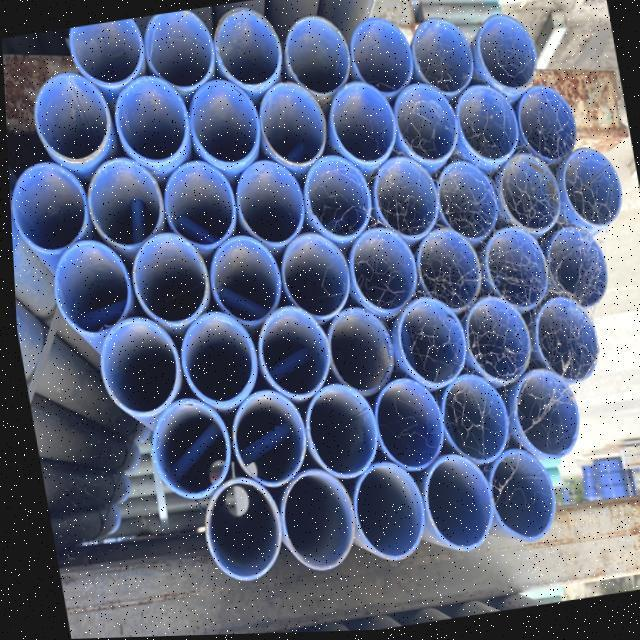pipe: (263, 472, 350, 575), (139, 400, 226, 503), (194, 474, 276, 580), (37, 239, 127, 335), (91, 313, 175, 413), (345, 464, 420, 564), (471, 450, 550, 544), (128, 233, 207, 327), (299, 382, 374, 481), (365, 378, 442, 473), (175, 311, 252, 404), (9, 161, 85, 255), (417, 450, 487, 552), (387, 298, 465, 389), (228, 392, 300, 488), (83, 156, 159, 246), (253, 309, 327, 401), (160, 158, 236, 246), (108, 76, 181, 166), (203, 235, 278, 322), (297, 155, 371, 242), (32, 73, 106, 160), (276, 233, 349, 321), (506, 368, 575, 460), (321, 309, 392, 398), (410, 227, 478, 318), (459, 295, 528, 384), (435, 376, 504, 464), (234, 159, 303, 247), (183, 79, 255, 163), (323, 81, 392, 167), (529, 296, 596, 384), (341, 229, 412, 312), (252, 83, 321, 167), (282, 17, 353, 97), (211, 7, 281, 87), (371, 156, 438, 239), (389, 82, 456, 165), (450, 87, 517, 168), (143, 10, 213, 87), (480, 225, 543, 309), (557, 148, 617, 235), (410, 19, 476, 97), (493, 154, 555, 237), (431, 163, 495, 243), (348, 20, 412, 100), (541, 227, 603, 309), (514, 87, 574, 168), (472, 14, 534, 91), (69, 18, 139, 84)
